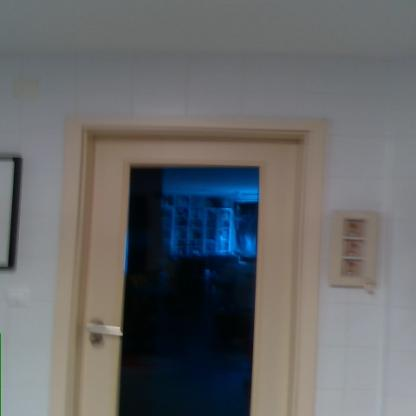closed: (48, 117, 308, 416)
